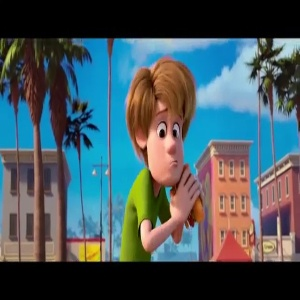Shagy: (123, 54, 204, 185)
